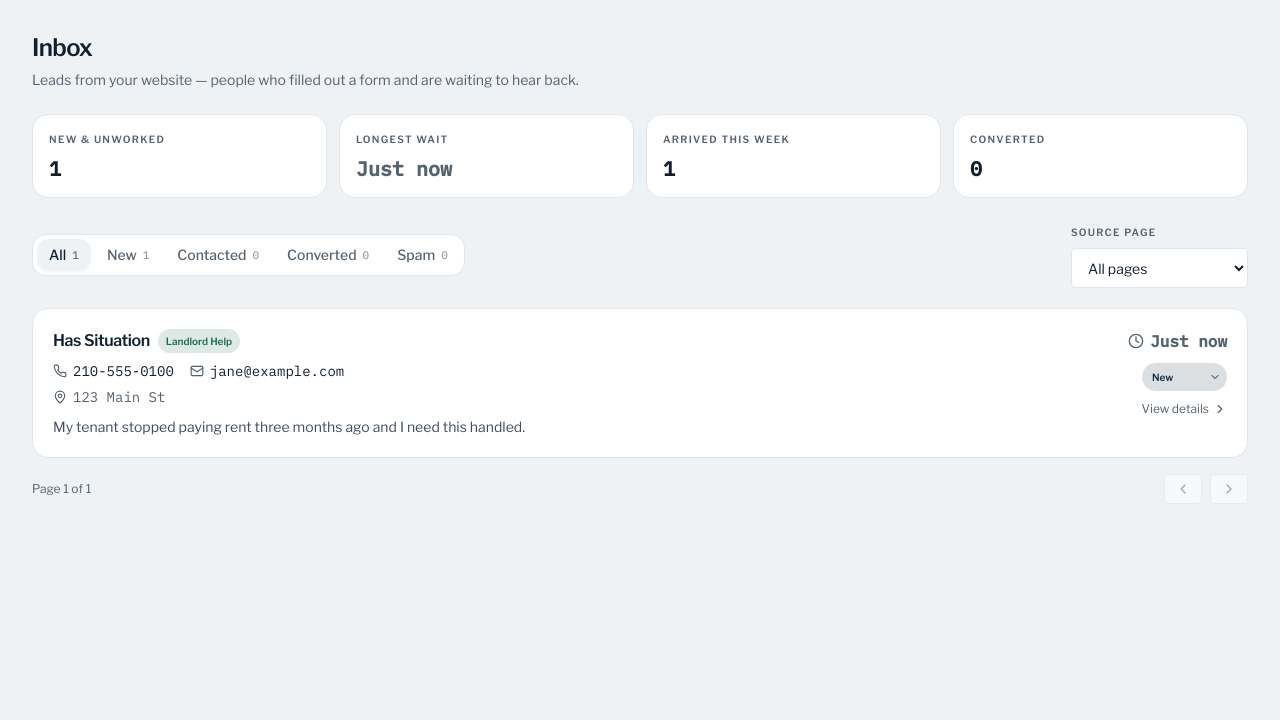
it: InboxView rows › shows the Situation row in the detail dialog only when one was submitted
The width and height of the screenshot is (1280, 720).
Click the heading "Has Situation".
click(101, 341)  # box [53, 331, 150, 351]
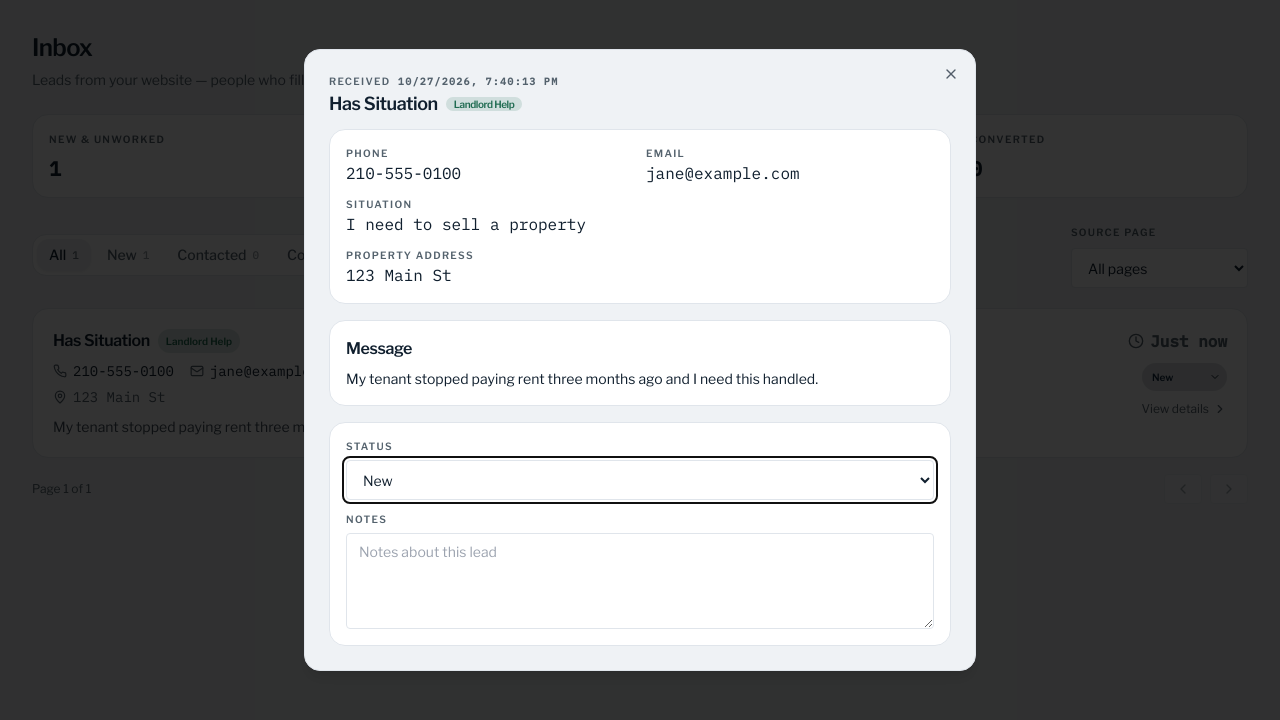
Expected: the text "I need to sell a property" is shown, [346, 214, 586, 234]
Expected: the text "SITUATION" is shown, [346, 198, 412, 210]
